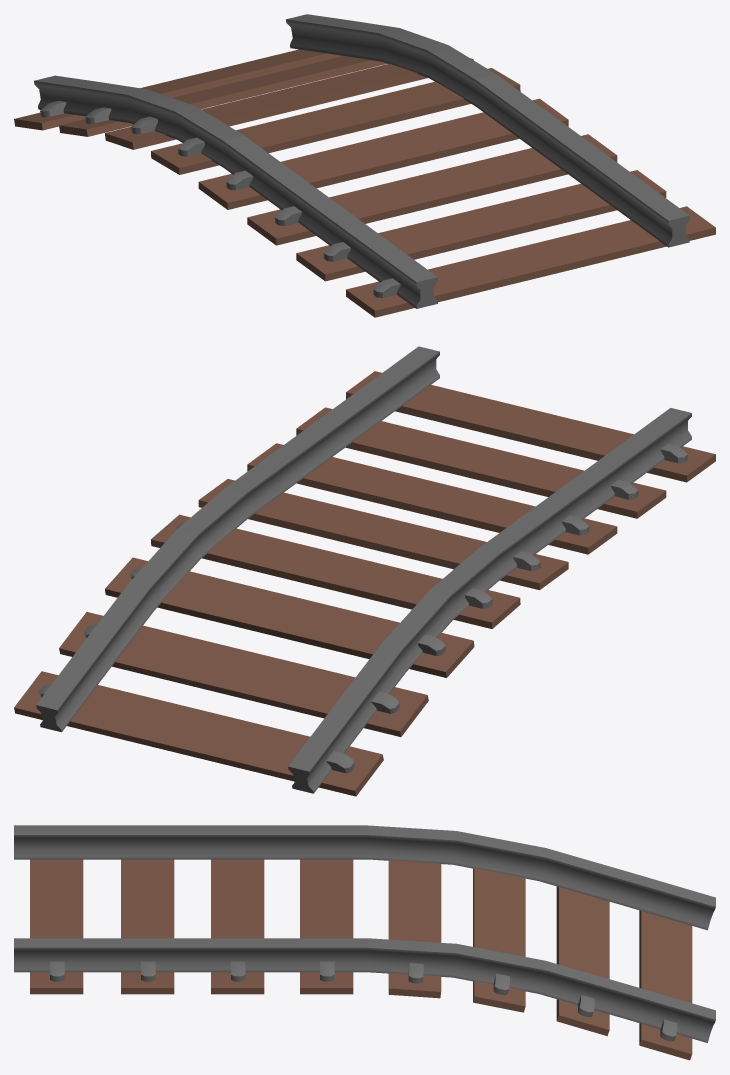
File: Trilho_reto_Station.fbx
3 renders of one model, top to bottom at view 1: azimuth 30°, elevation 25°; view 2: azimuth 150°, elevation 25°; view 3: azimuth 270°, elevation 25°, orthographic. The views are drawn at different scales.
Parts seen in each view (by area): view 1: Trilho_reto_Station; view 2: Trilho_reto_Station; view 3: Trilho_reto_Station.
Part boxes in pixels (left/top/right/bottom): Trilho_reto_Station: left=14, top=14, right=715, bottom=317; Trilho_reto_Station: left=14, top=346, right=715, bottom=796; Trilho_reto_Station: left=14, top=825, right=715, bottom=1060.
Bounding box in the file's own units: 203 × 60.25 × 395.
